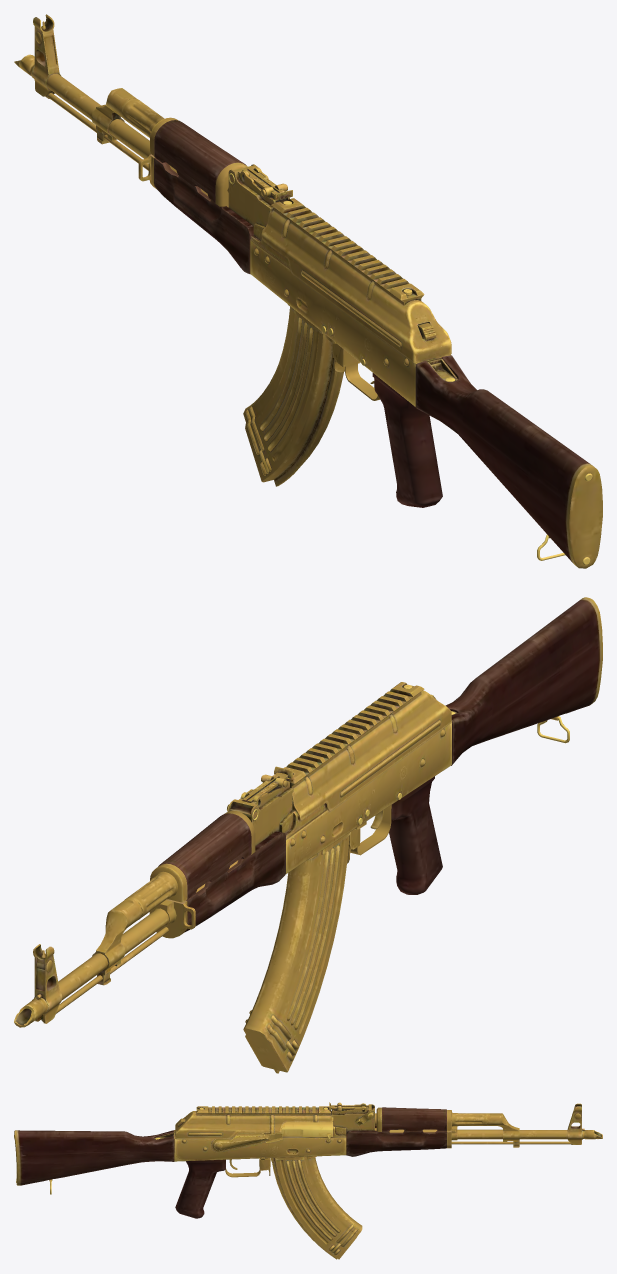
Rendered from akmgold-5TOI6OMY.glb.
The picture shows the model from 3 angles, top to bottom: view 1: azimuth 30°, elevation 25°; view 2: azimuth 150°, elevation 25°; view 3: azimuth 270°, elevation 25°; orthographic projection. The views are drawn at different scales.
Visible parts, largest first — view 1: body, mag; view 2: body, mag; view 3: body, mag.
Boxes of the visible parts, x1,y1,x2,y2 form: body: [14, 14, 602, 568]; mag: [243, 304, 343, 486]; body: [14, 597, 602, 1027]; mag: [243, 832, 350, 1073]; body: [14, 1102, 602, 1218]; mag: [271, 1156, 362, 1259].
Bounding box in the file's own units: 0.0568 × 0.2554 × 0.88.
1 material, 1 textured.
